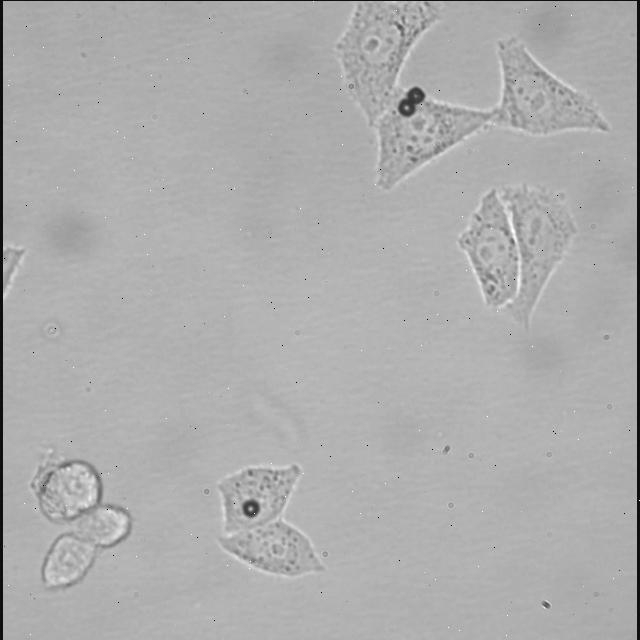microbeads: (404, 85, 428, 105), (242, 499, 260, 516), (396, 100, 414, 116)
